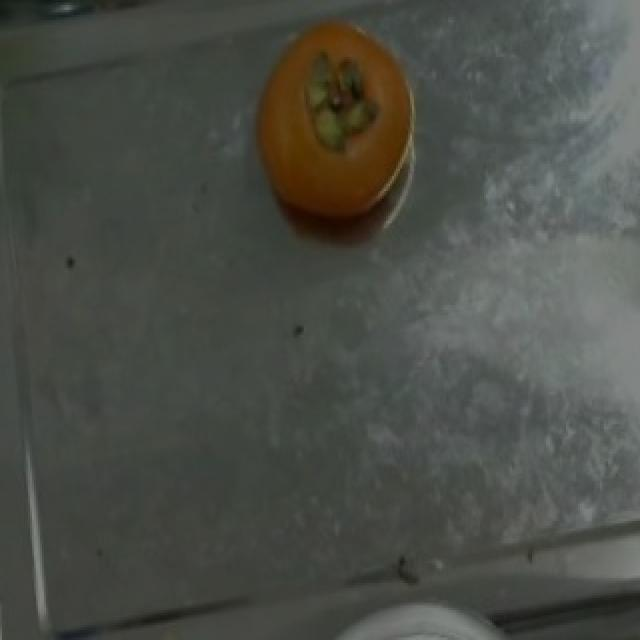Fruit: (230, 12, 442, 246)
